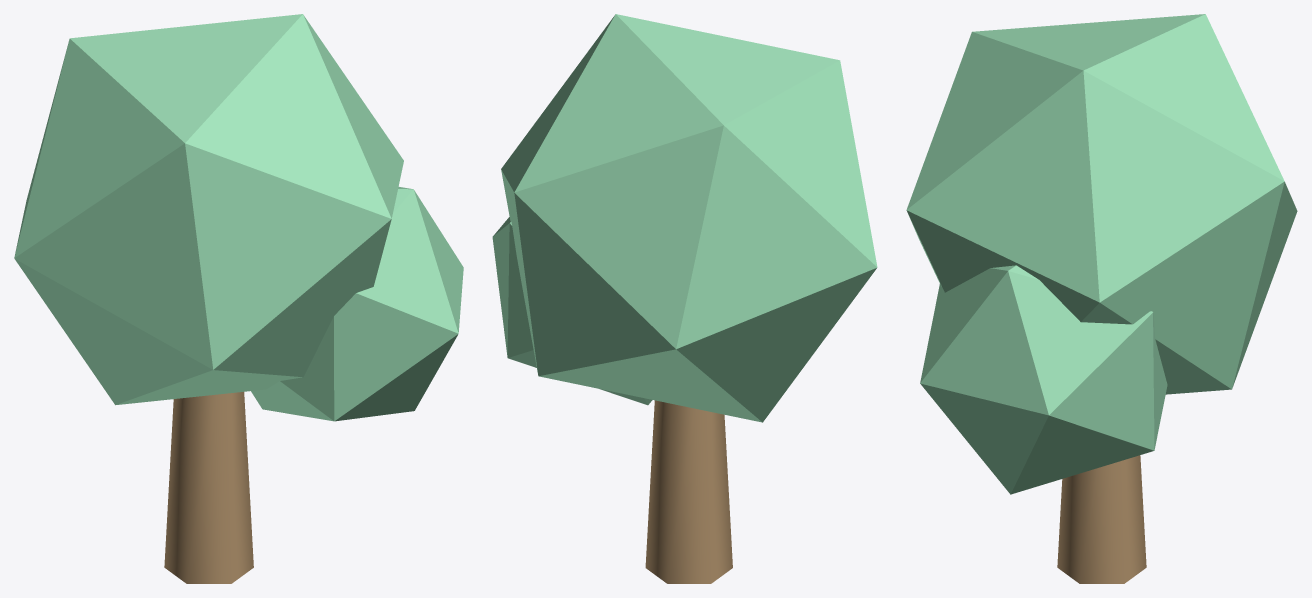
File: round2.glb
The picture shows the model from 3 angles, left to right: view 1: azimuth 30°, elevation 25°; view 2: azimuth 150°, elevation 25°; view 3: azimuth 270°, elevation 25°; orthographic projection. The views are drawn at different scales.
Visible parts, largest first — view 1: round2; view 2: round2; view 3: round2.
Part boxes in pixels (x1,y1,x2,y2): round2: [14, 14, 463, 583]; round2: [492, 14, 877, 583]; round2: [906, 14, 1297, 583].
Bounding box in the file's own units: 1.85 × 2.26 × 1.49.
